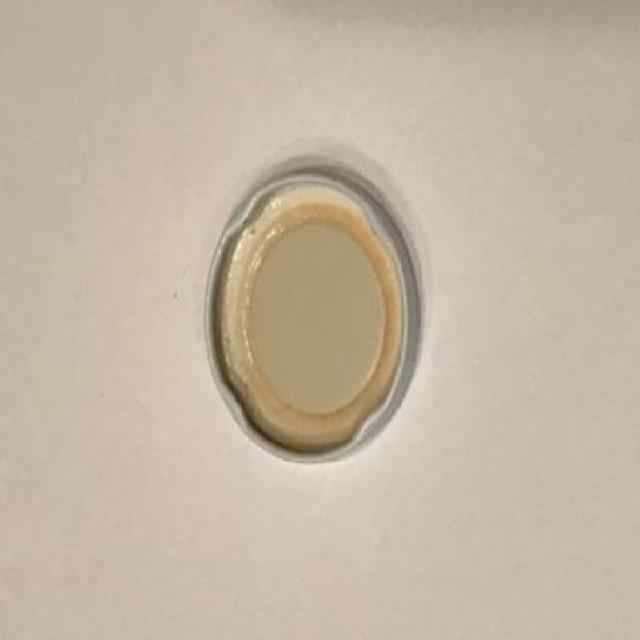METAL: (202, 168, 421, 464)
